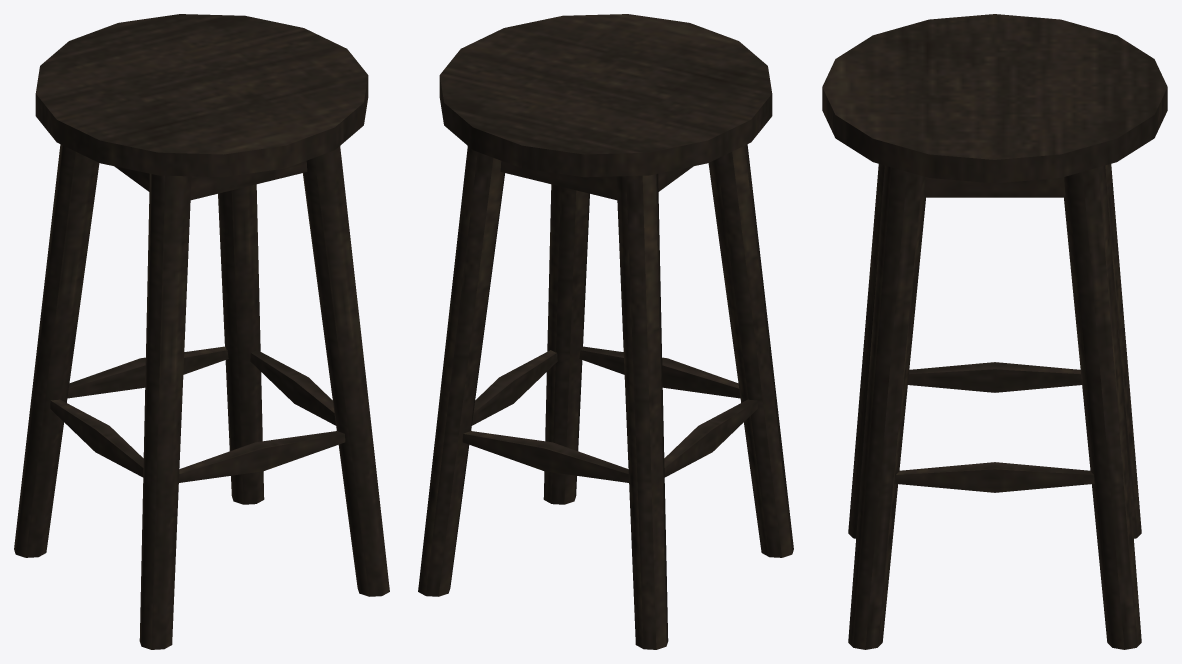
File: chair_mp_2_2.fbx
3 views of the same model, side by side, from view 1: azimuth 30°, elevation 25°; view 2: azimuth 150°, elevation 25°; view 3: azimuth 270°, elevation 25° (orthographic). The views are drawn at different scales.
Parts seen in each view (by area): view 1: chair_mp_2_2; view 2: chair_mp_2_2; view 3: chair_mp_2_2.
Boxes of the visible parts, x1,y1,x2,y2 form: chair_mp_2_2: (14, 14, 389, 649); chair_mp_2_2: (418, 14, 793, 649); chair_mp_2_2: (822, 14, 1167, 649).
Size of the model in its own units: 0.4 by 0.4 by 0.64.
